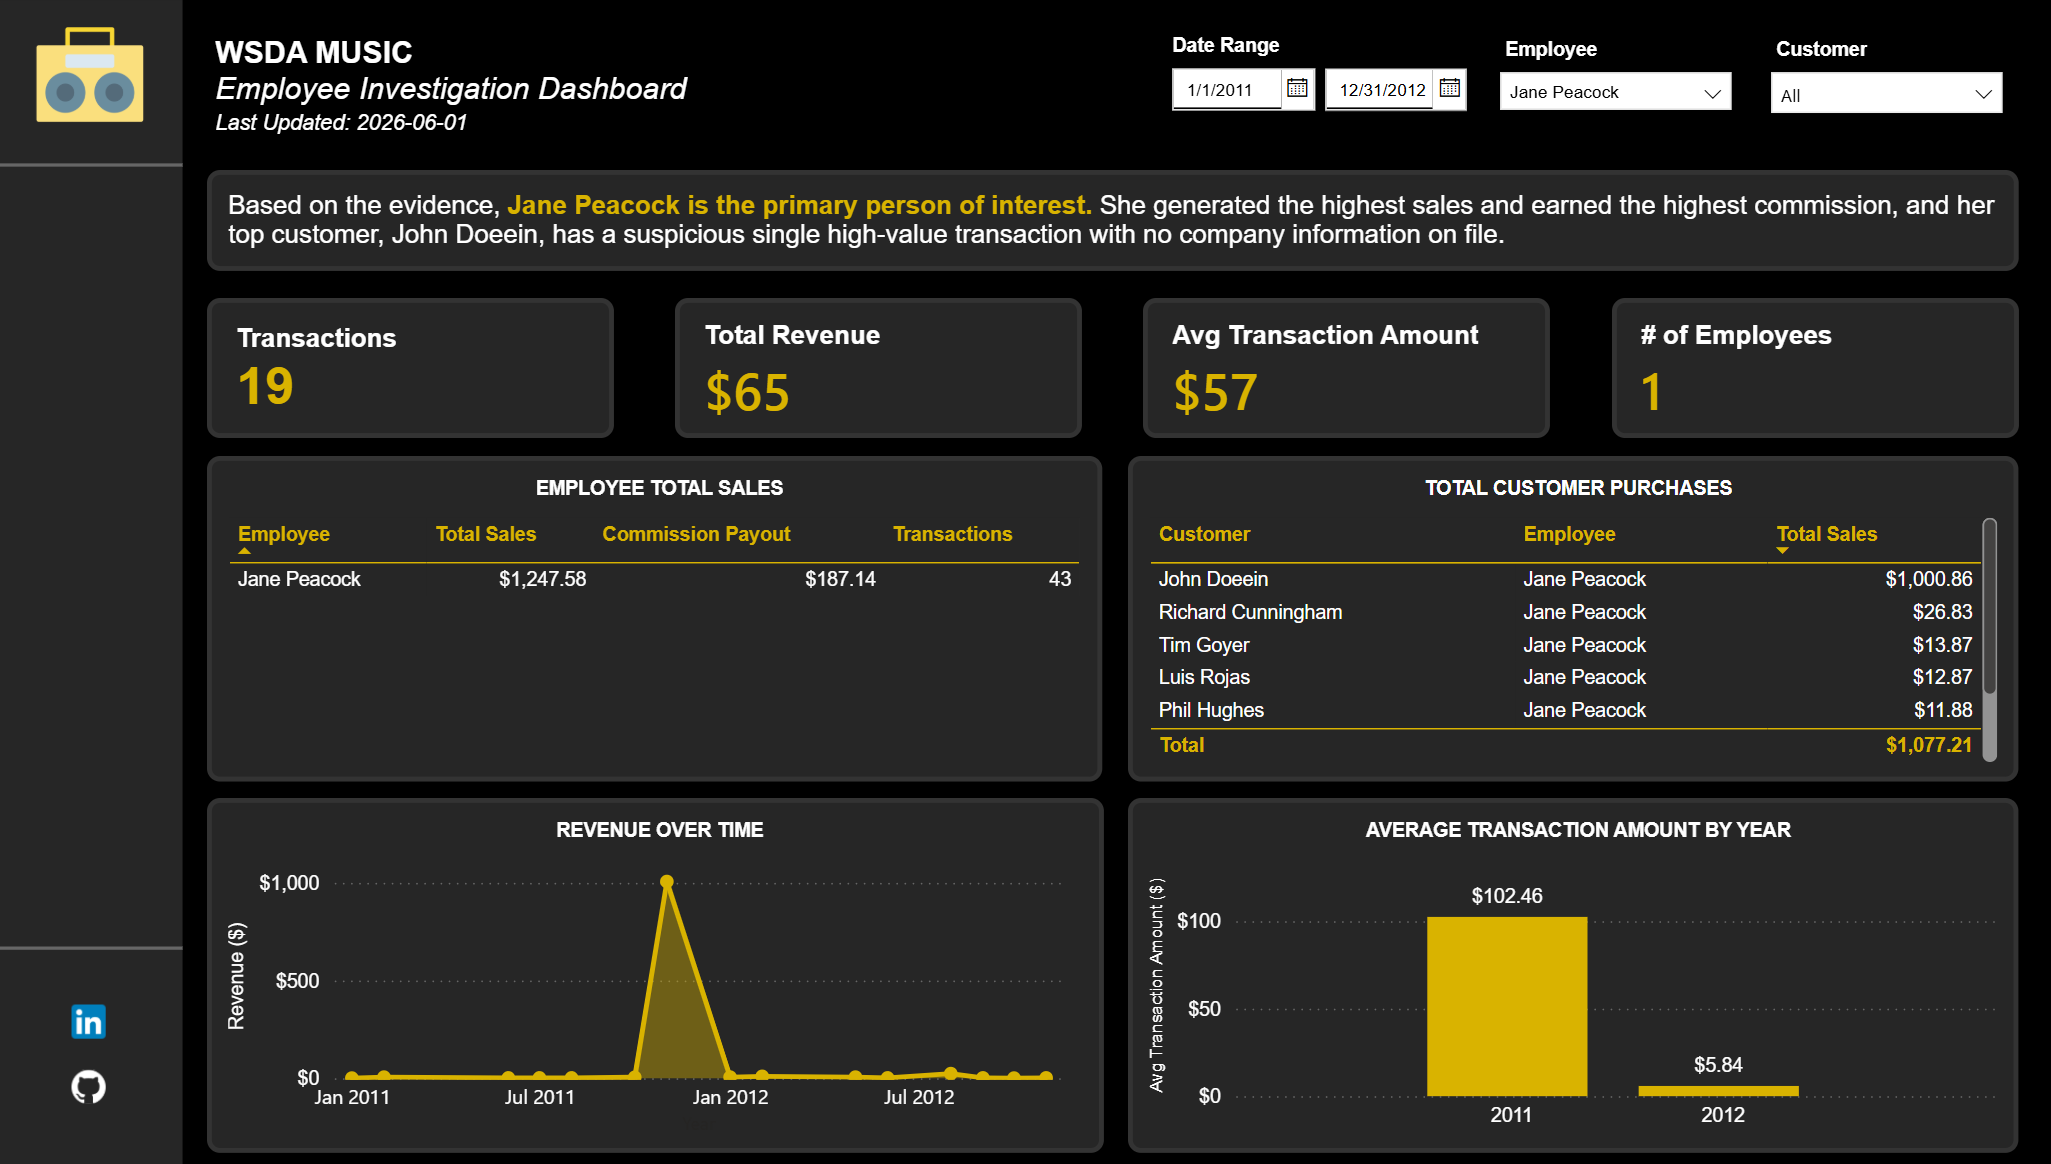

This screenshot's page, from the dashboard's own definition file:
{"tool":"powerbi","page":{"name":"Page 1","canvas":[1280,720],"ordinal":0},"visuals":[{"type":"shape","box":[0,0,114,720],"z":0},{"type":"textbox","box":[129.3,18.2,450.5,87.9],"z":1000},{"type":"textbox","box":[129,106,1113,62],"z":2000},{"type":"slicer","fields":{"Values":["Date.Date"]},"box":[709,18,205,58],"z":3000},{"type":"slicer","fields":{"Values":["Employee Table.FullName"]},"box":[913.5,20,162,72],"z":4000},{"type":"slicer","fields":{"Values":["Customer Table.CustomerName"]},"box":[1080,20,162,72],"z":5000},{"type":"cardVisual","fields":{"Data":["Invoice.invoice_count_2011_2012"]},"box":[129,185,250,86],"z":6000},{"type":"tableEx","title":"TOTAL CUSTOMER PURCHASES","fields":{"Values":["Customer Table.CustomerName","Employee Table.FullName","Sum(Invoice.Total)"]},"box":[694.9,281.8,547.5,200],"z":7000},{"type":"areaChart","title":"REVENUE OVER TIME","fields":{"Category":["Date.Date.Variation.Date Hierarchy.Year","Date.Date.Variation.Date Hierarchy.Quarter","Date.Date.Variation.Date Hierarchy.Month"],"Y":["Sum(Invoice.Total)"]},"box":[129.3,491.9,550.5,218.2],"z":8000},{"type":"columnChart","title":"AVERAGE TRANSACTION AMOUNT BY YEAR","fields":{"Category":["Date.Year"],"Y":["Invoice.Average Sales"]},"box":[694.9,491.9,547.5,218.2],"z":9000},{"type":"cardVisual","fields":{"Data":["CountNonNull(Revenue.Revenue)"]},"box":[416.7,185,250,86],"z":10000},{"type":"tableEx","title":"EMPLOYEE TOTAL SALES","fields":{"Values":["Employee Table.FullName","Employee Table.Total_Sales","Employee Table.Commission_Payout","Employee Table.Transaction_Count"]},"box":[129,282,550,200],"z":11000},{"type":"cardVisual","fields":{"Data":["Invoice.Average Sales"]},"box":[704.3,185,250,86],"z":12000},{"type":"cardVisual","fields":{"Data":["Customer Table.Employee Count"]},"box":[992,185,250,86],"z":13000},{"type":"image","box":[11.1,6.1,91.9,82.8],"z":14000},{"type":"actionButton","box":[42,615,30,29],"z":15000},{"type":"shape","box":[0,43.4,114.1,119.2],"z":16000},{"type":"shape","box":[0,553.5,114.1,61.6],"z":17000},{"type":"actionButton","box":[42,655,30,29],"z":18000}]}

Visuals, with their boxes in screenshot pixels (x1, y1, x2, y2), scaled from the page's 1280x720 canvas onto the 2051x1164 screenshot:
shape: box=[0, 0, 183, 1163]
textbox: box=[207, 29, 929, 172]
textbox: box=[207, 171, 1990, 272]
slicer - Date.Date: box=[1136, 29, 1465, 123]
slicer - Employee Table.FullName: box=[1464, 32, 1723, 149]
slicer - Customer Table.CustomerName: box=[1731, 32, 1990, 149]
cardVisual - Invoice.invoice_count_2011_2012: box=[207, 299, 607, 438]
"TOTAL CUSTOMER PURCHASES" tableEx: box=[1113, 456, 1991, 779]
"REVENUE OVER TIME" areaChart: box=[207, 795, 1089, 1148]
"AVERAGE TRANSACTION AMOUNT BY YEAR" columnChart: box=[1113, 795, 1991, 1148]
cardVisual - CountNonNull(Revenue.Revenue): box=[668, 299, 1068, 438]
"EMPLOYEE TOTAL SALES" tableEx: box=[207, 456, 1088, 779]
cardVisual - Invoice.Average Sales: box=[1129, 299, 1529, 438]
cardVisual - Customer Table.Employee Count: box=[1590, 299, 1990, 438]
image: box=[18, 10, 165, 144]
actionButton: box=[67, 994, 115, 1041]
shape: box=[0, 70, 183, 263]
shape: box=[0, 895, 183, 994]
actionButton: box=[67, 1059, 115, 1106]
